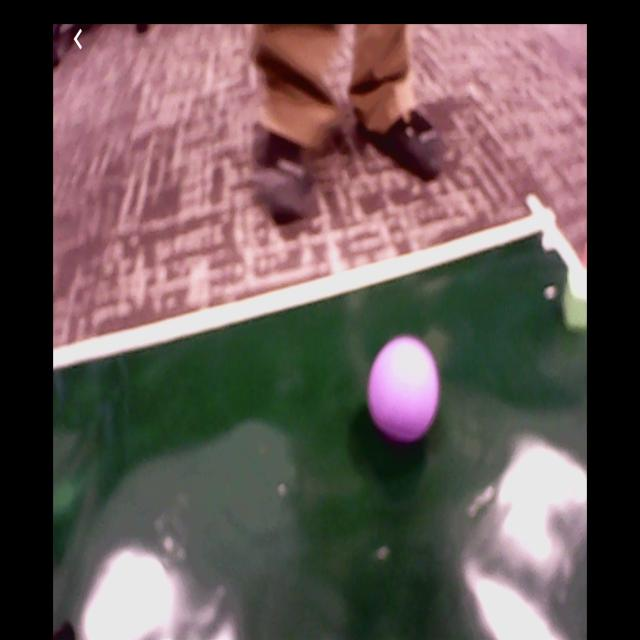ball: (370, 338, 441, 442)
